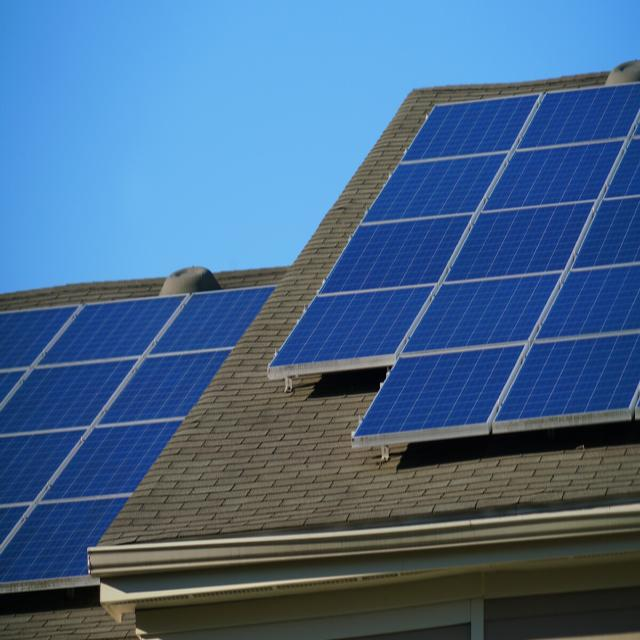clean-solar-panel: (269, 83, 640, 436), (0, 285, 274, 591)
